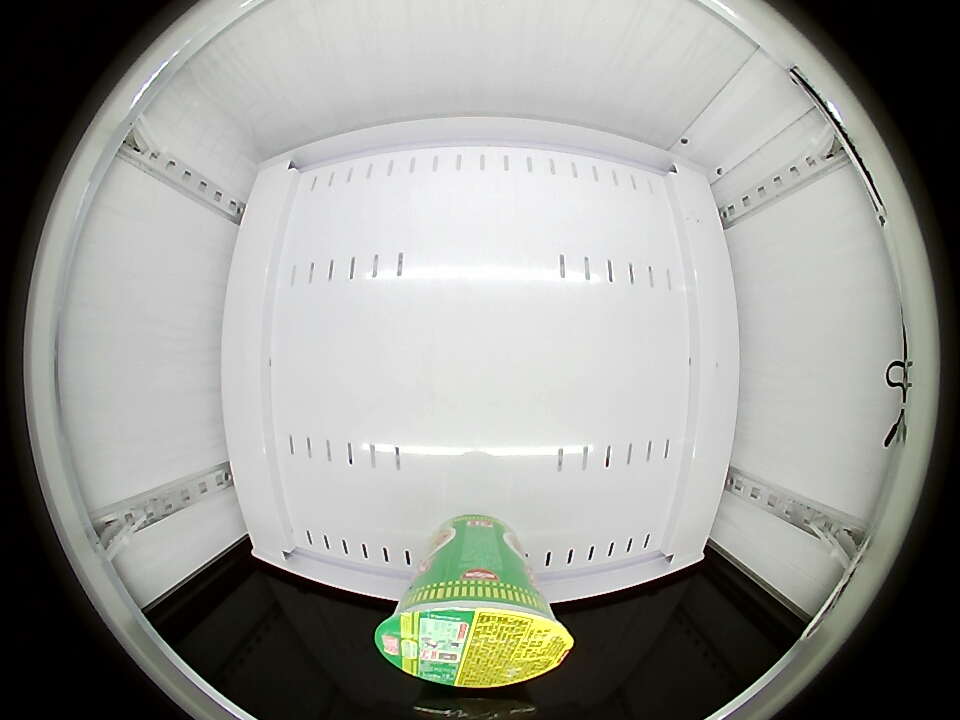heweidao2: (376, 572, 573, 688)
